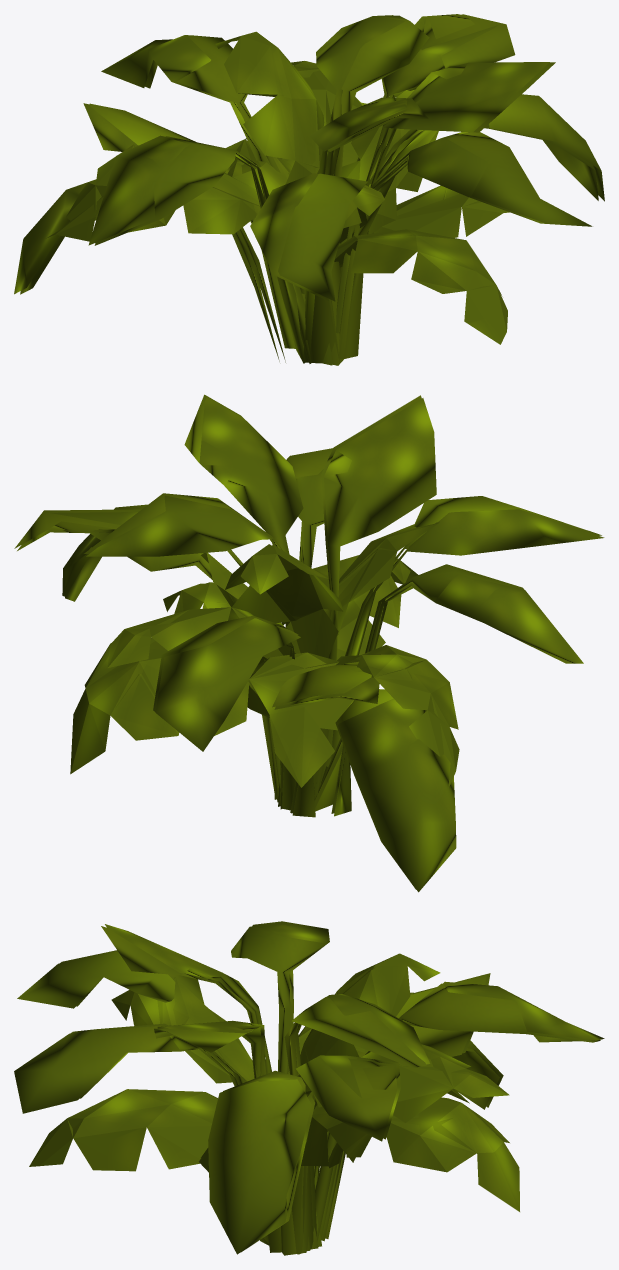
File: fern_01.fbx
3 views of the same model, one above another, from view 1: azimuth 30°, elevation 25°; view 2: azimuth 150°, elevation 25°; view 3: azimuth 270°, elevation 25° (orthographic). The views are drawn at different scales.
Visible parts, largest first — view 1: fern_01, fern_03, fern_02; view 2: fern_01, fern_02, fern_03; view 3: fern_03, fern_02, fern_01.
Part boxes in pixels (box(x1,y1,x2,y2)): fern_01: box(14, 14, 598, 365); fern_03: box(20, 14, 604, 365); fern_02: box(46, 31, 509, 344); fern_01: box(17, 397, 604, 892); fern_02: box(70, 522, 459, 798); fern_03: box(14, 394, 601, 889); fern_03: box(14, 926, 600, 1255); fern_02: box(29, 953, 519, 1211); fern_01: box(60, 921, 604, 1252).
Bounding box in the file's own units: 711 × 431 × 742.
